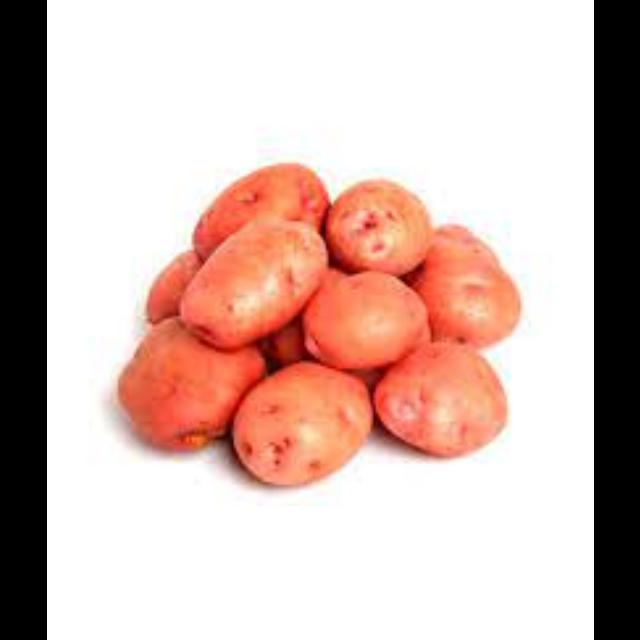Defected potato: (116, 312, 272, 456), (227, 354, 375, 494), (178, 215, 328, 351), (366, 342, 514, 461), (190, 162, 334, 272), (300, 273, 434, 372), (396, 250, 522, 352), (333, 175, 435, 279)
